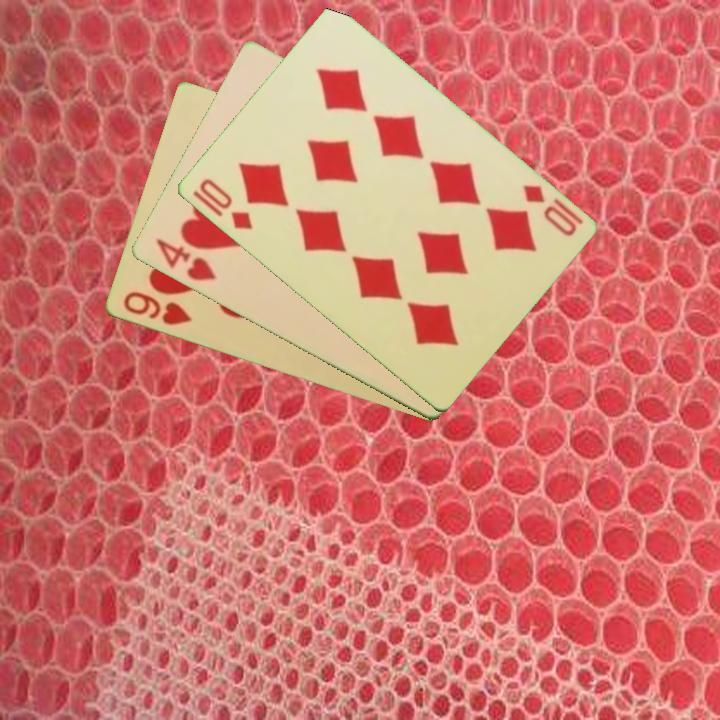10d: (518, 181, 579, 240), (195, 174, 255, 233)
4h: (151, 235, 219, 284)
9h: (119, 288, 194, 329)
